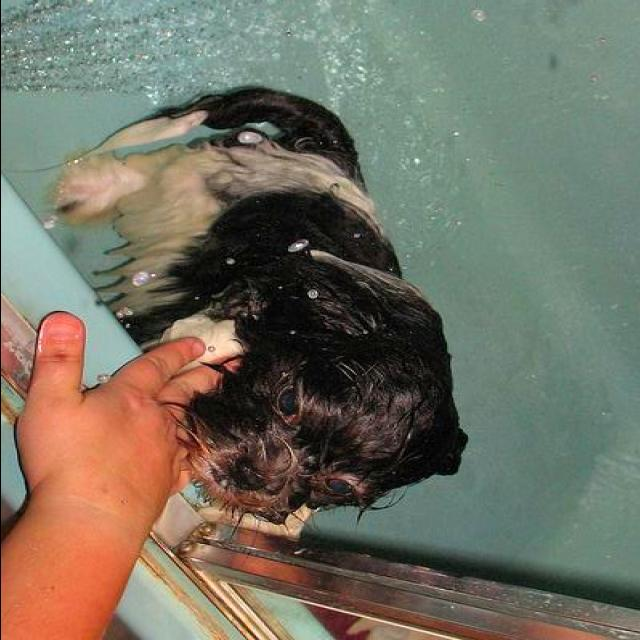shih_tzu: (49, 83, 472, 550)
